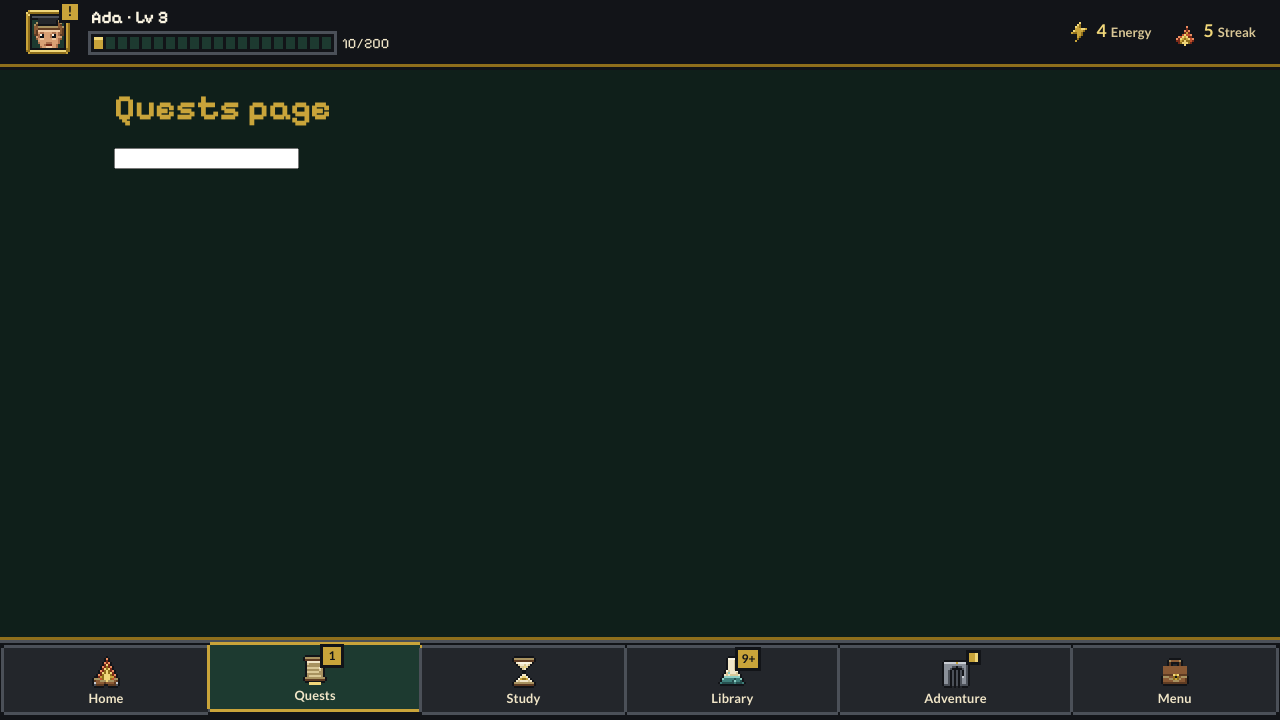
Test: Menu overlay › opens as a modal dialog, moves focus inside and makes the page inert
Expected: the text "Ada · Lv 3" is shown, [91,9,168,28]
Click the button "Menu" at coordinates (1175, 680), box [1073,648,1276,712]
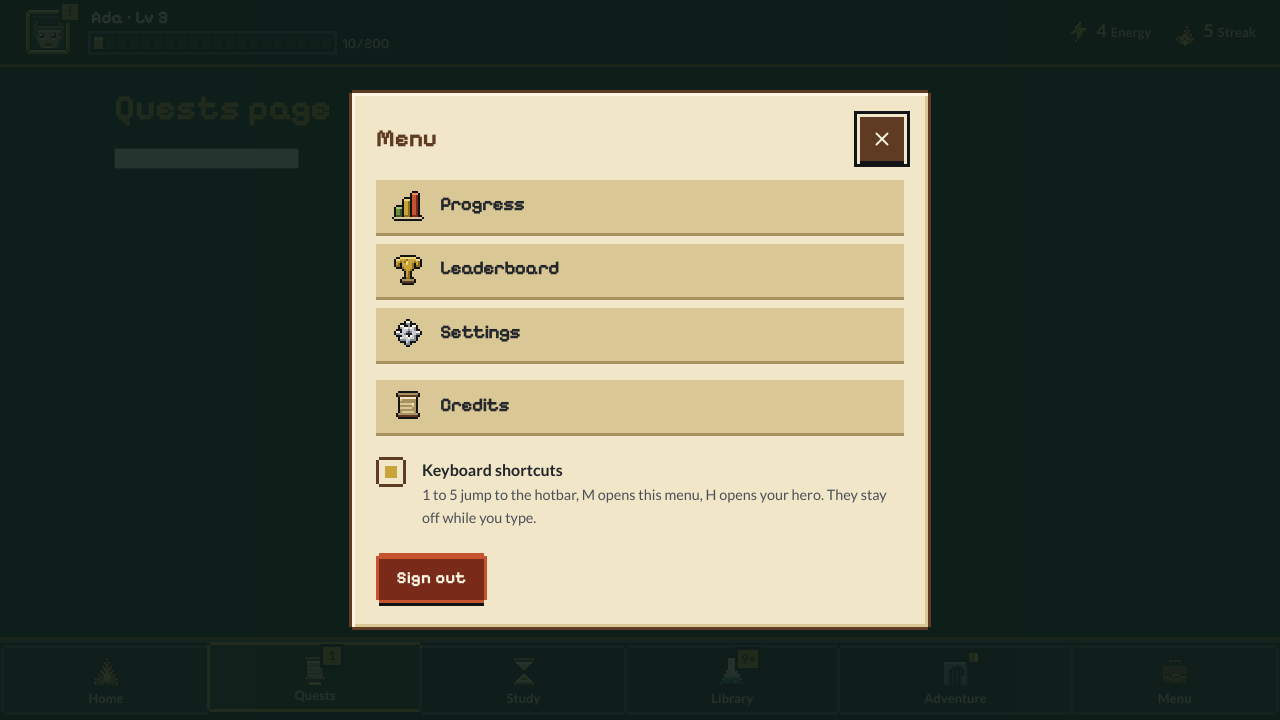
Now the links read "Progress", "Leaderboard", "Settings", in this order, box [376,177,904,233]; [376,241,904,297]; [376,305,904,361]
